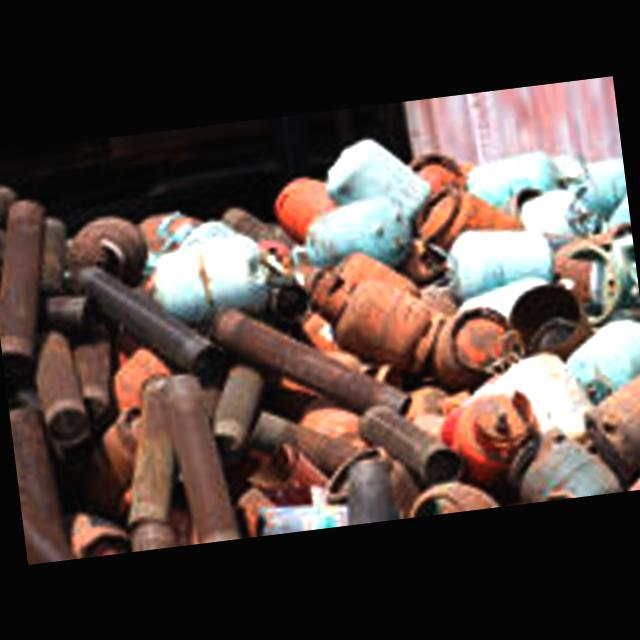Cylinders: (303, 275, 440, 376), (290, 196, 417, 267)
